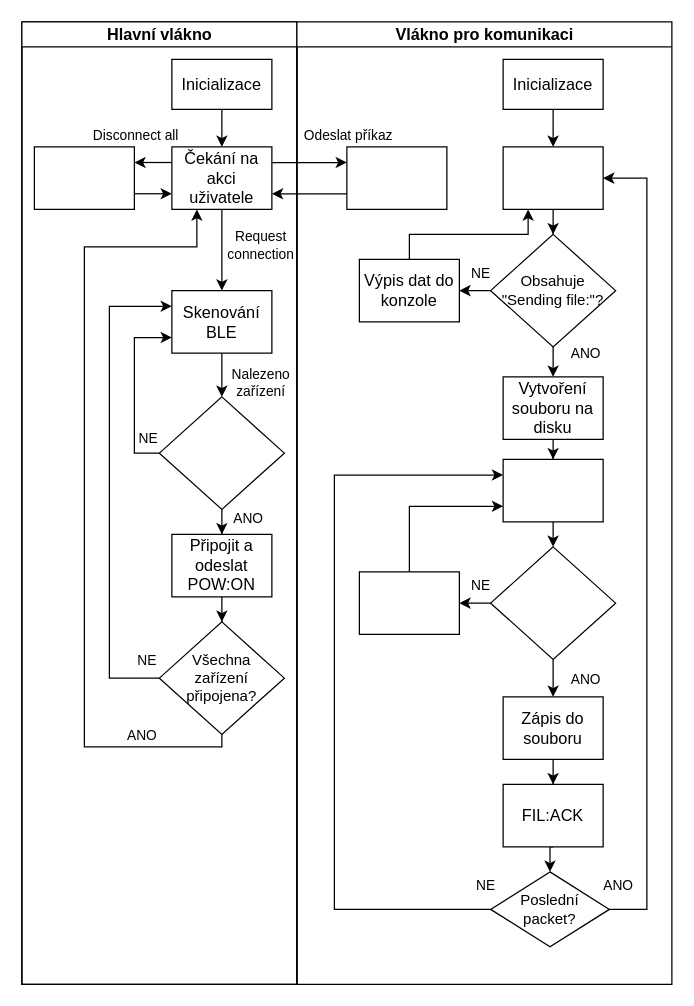
Image size: 694x1006. Some labels were removed from this diagram. Here are the shapes that lost their labels. From the top down, the box of each, then its label:
(33, 146, 134, 209): Odpojení všech zařízení
(346, 146, 447, 209): Odeslání příkazu
(502, 146, 603, 209): Čekání na data ze zařízení
(158, 396, 284, 509): Vybrané nepřipojené zařízení?
(502, 458, 603, 522): Příjem packetu
(358, 571, 459, 634): FIL:NACK
(489, 546, 616, 659): Přišel packet včas?
